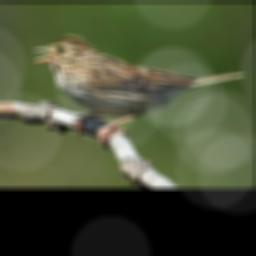Sparrow: (28, 34, 243, 150)
